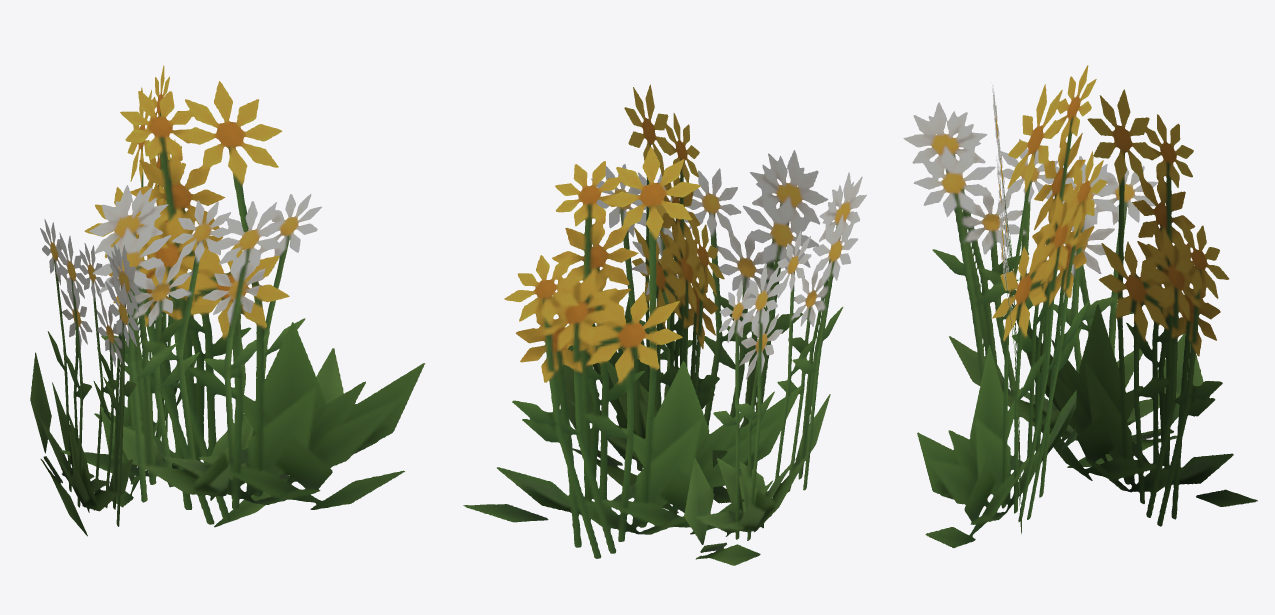
File: flowers.glb
3 renders of one model, left to right at view 1: azimuth 30°, elevation 25°; view 2: azimuth 150°, elevation 25°; view 3: azimuth 270°, elevation 25°, orthographic. The views are drawn at different scales.
Visible parts, largest first — view 1: flowers_mesh; view 2: flowers_mesh; view 3: flowers_mesh.
Part boxes in pixels (x1=…): flowers_mesh: x1=30, y1=65, x2=425, y2=536; flowers_mesh: x1=463, y1=84, x2=866, y2=565; flowers_mesh: x1=903, y1=65, x2=1257, y2=547.
Size of the model in its own units: 0.3448 by 0.4474 by 0.3303.
1 material, 1 textured.
